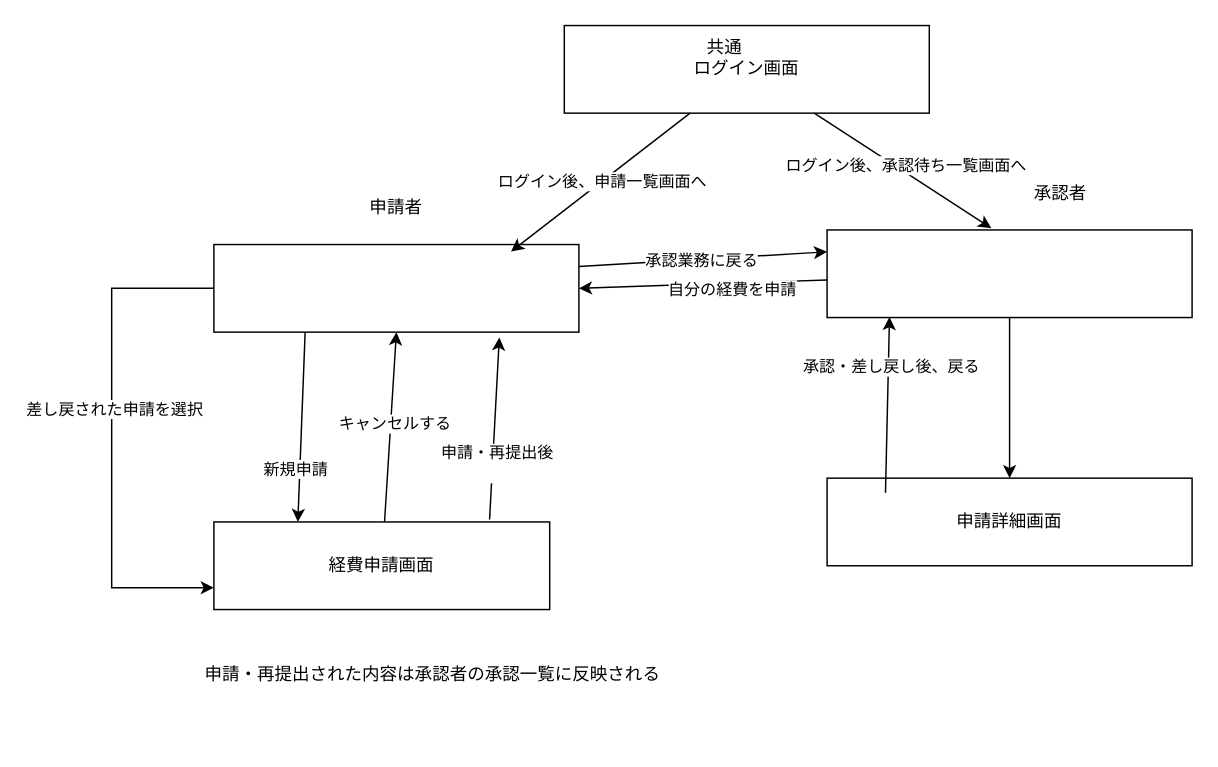
The diagram is 1218 pixels wide and 767 high, and some of its shapes have lost their labels. The centre of each missing label's shape, as x and y in pixels:
承認待ち一覧画面: (x=1009, y=273)
申請一覧画面: (x=395, y=287)
